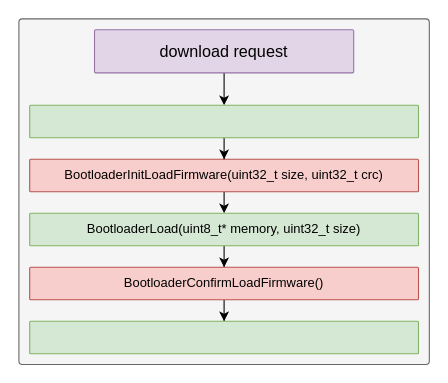
The diagram is 448 pixels wide and 383 high, and some of its shapes have lost their labels. Here are the shapes that lost their labels. From the top down, the centre of each, then its label:
point 223,121: BootloaderStartBoot()
point 223,337: BootloaderInitAppInput()
